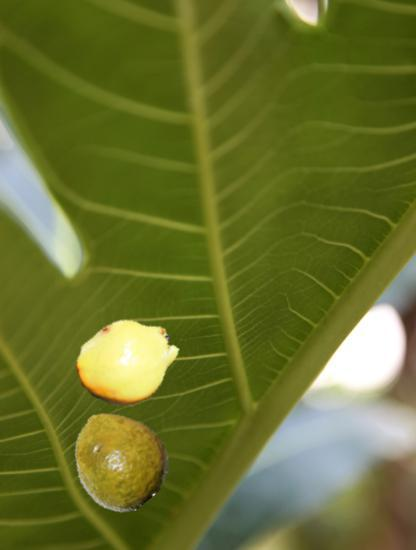Guava: (68, 409, 169, 510)
Quince: (77, 310, 182, 415)
